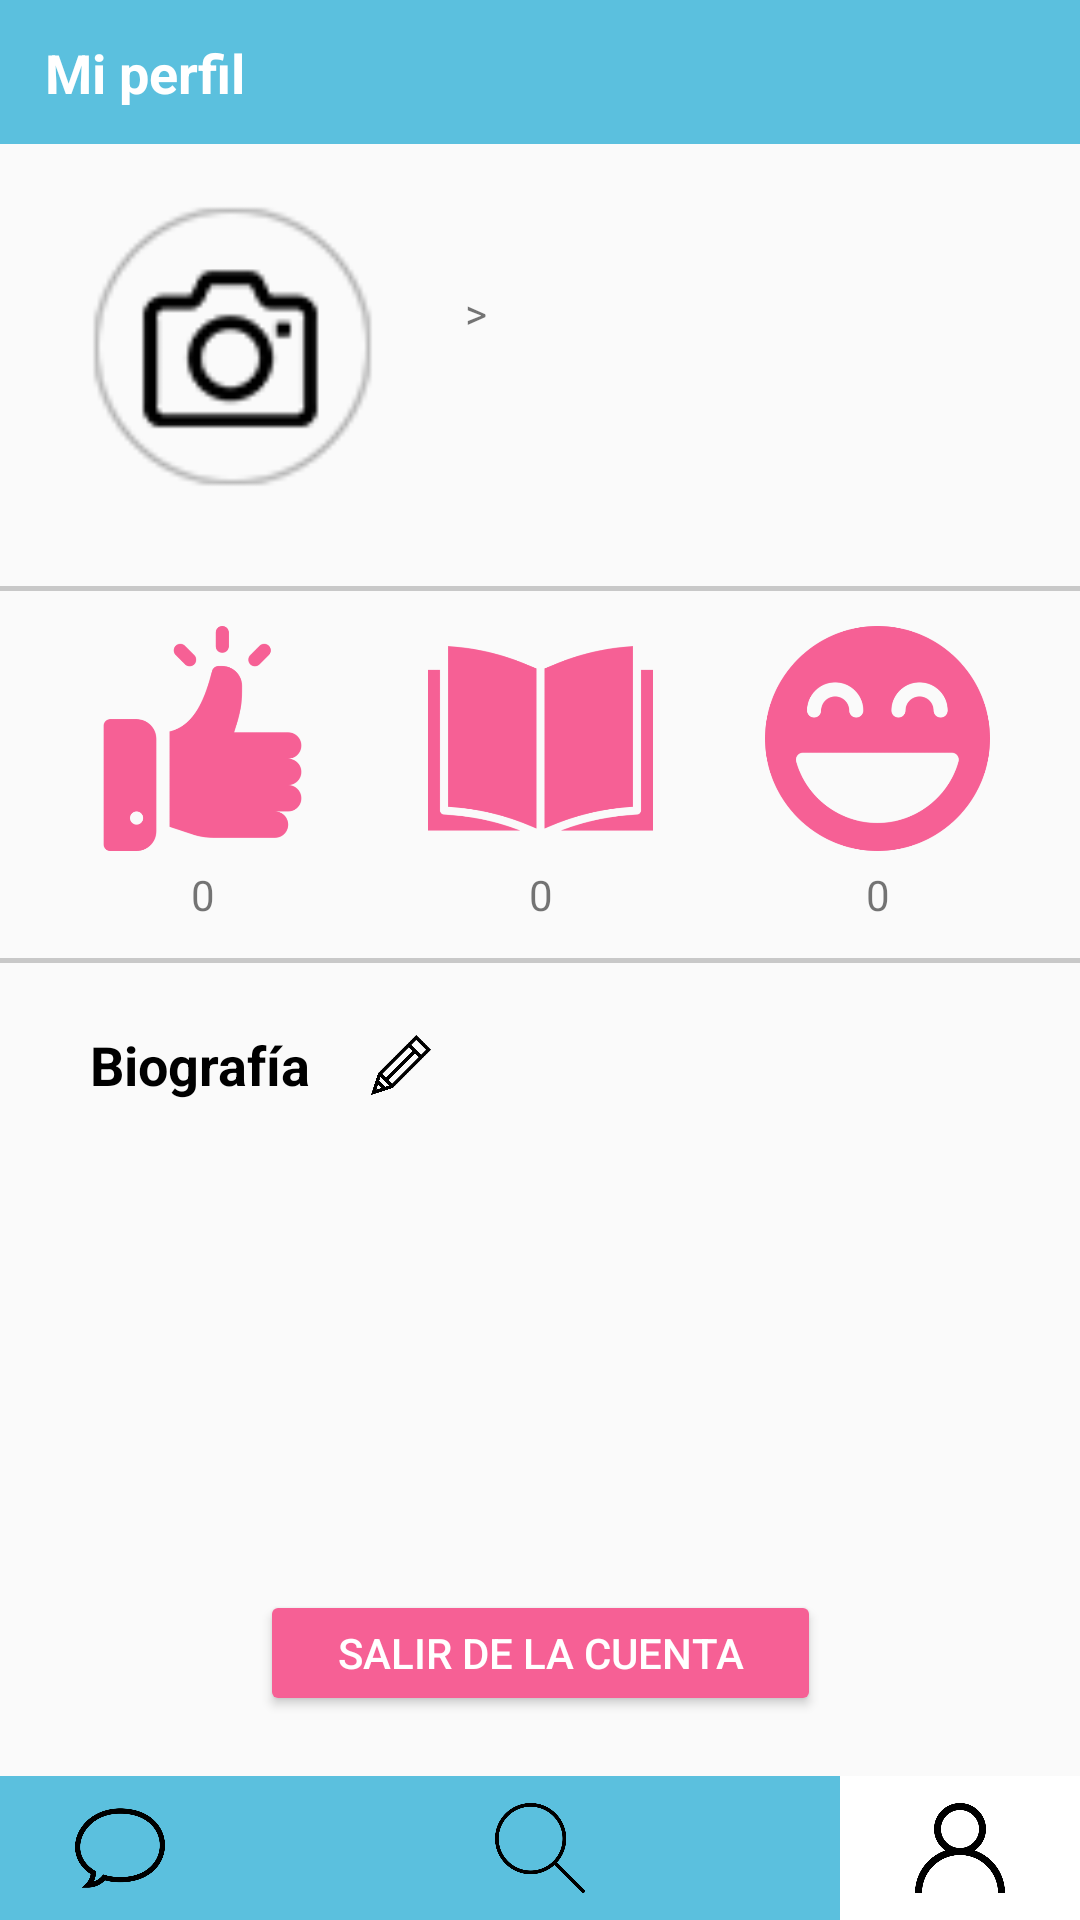

Where icons sit on this 1080x1920 app screen, as [x1=x1, y1=y1, x2=x2, y2=y2]:
buscar: [x1=495, y1=1803, x2=585, y2=1893]
comentario: [x1=75, y1=1808, x2=165, y2=1888]
edit: [x1=371, y1=1035, x2=431, y2=1095]
laughing: [x1=765, y1=626, x2=990, y2=851]
libro: [x1=428, y1=646, x2=653, y2=831]
like: [x1=103, y1=626, x2=302, y2=851]
profile pic: [x1=94, y1=208, x2=371, y2=485]
